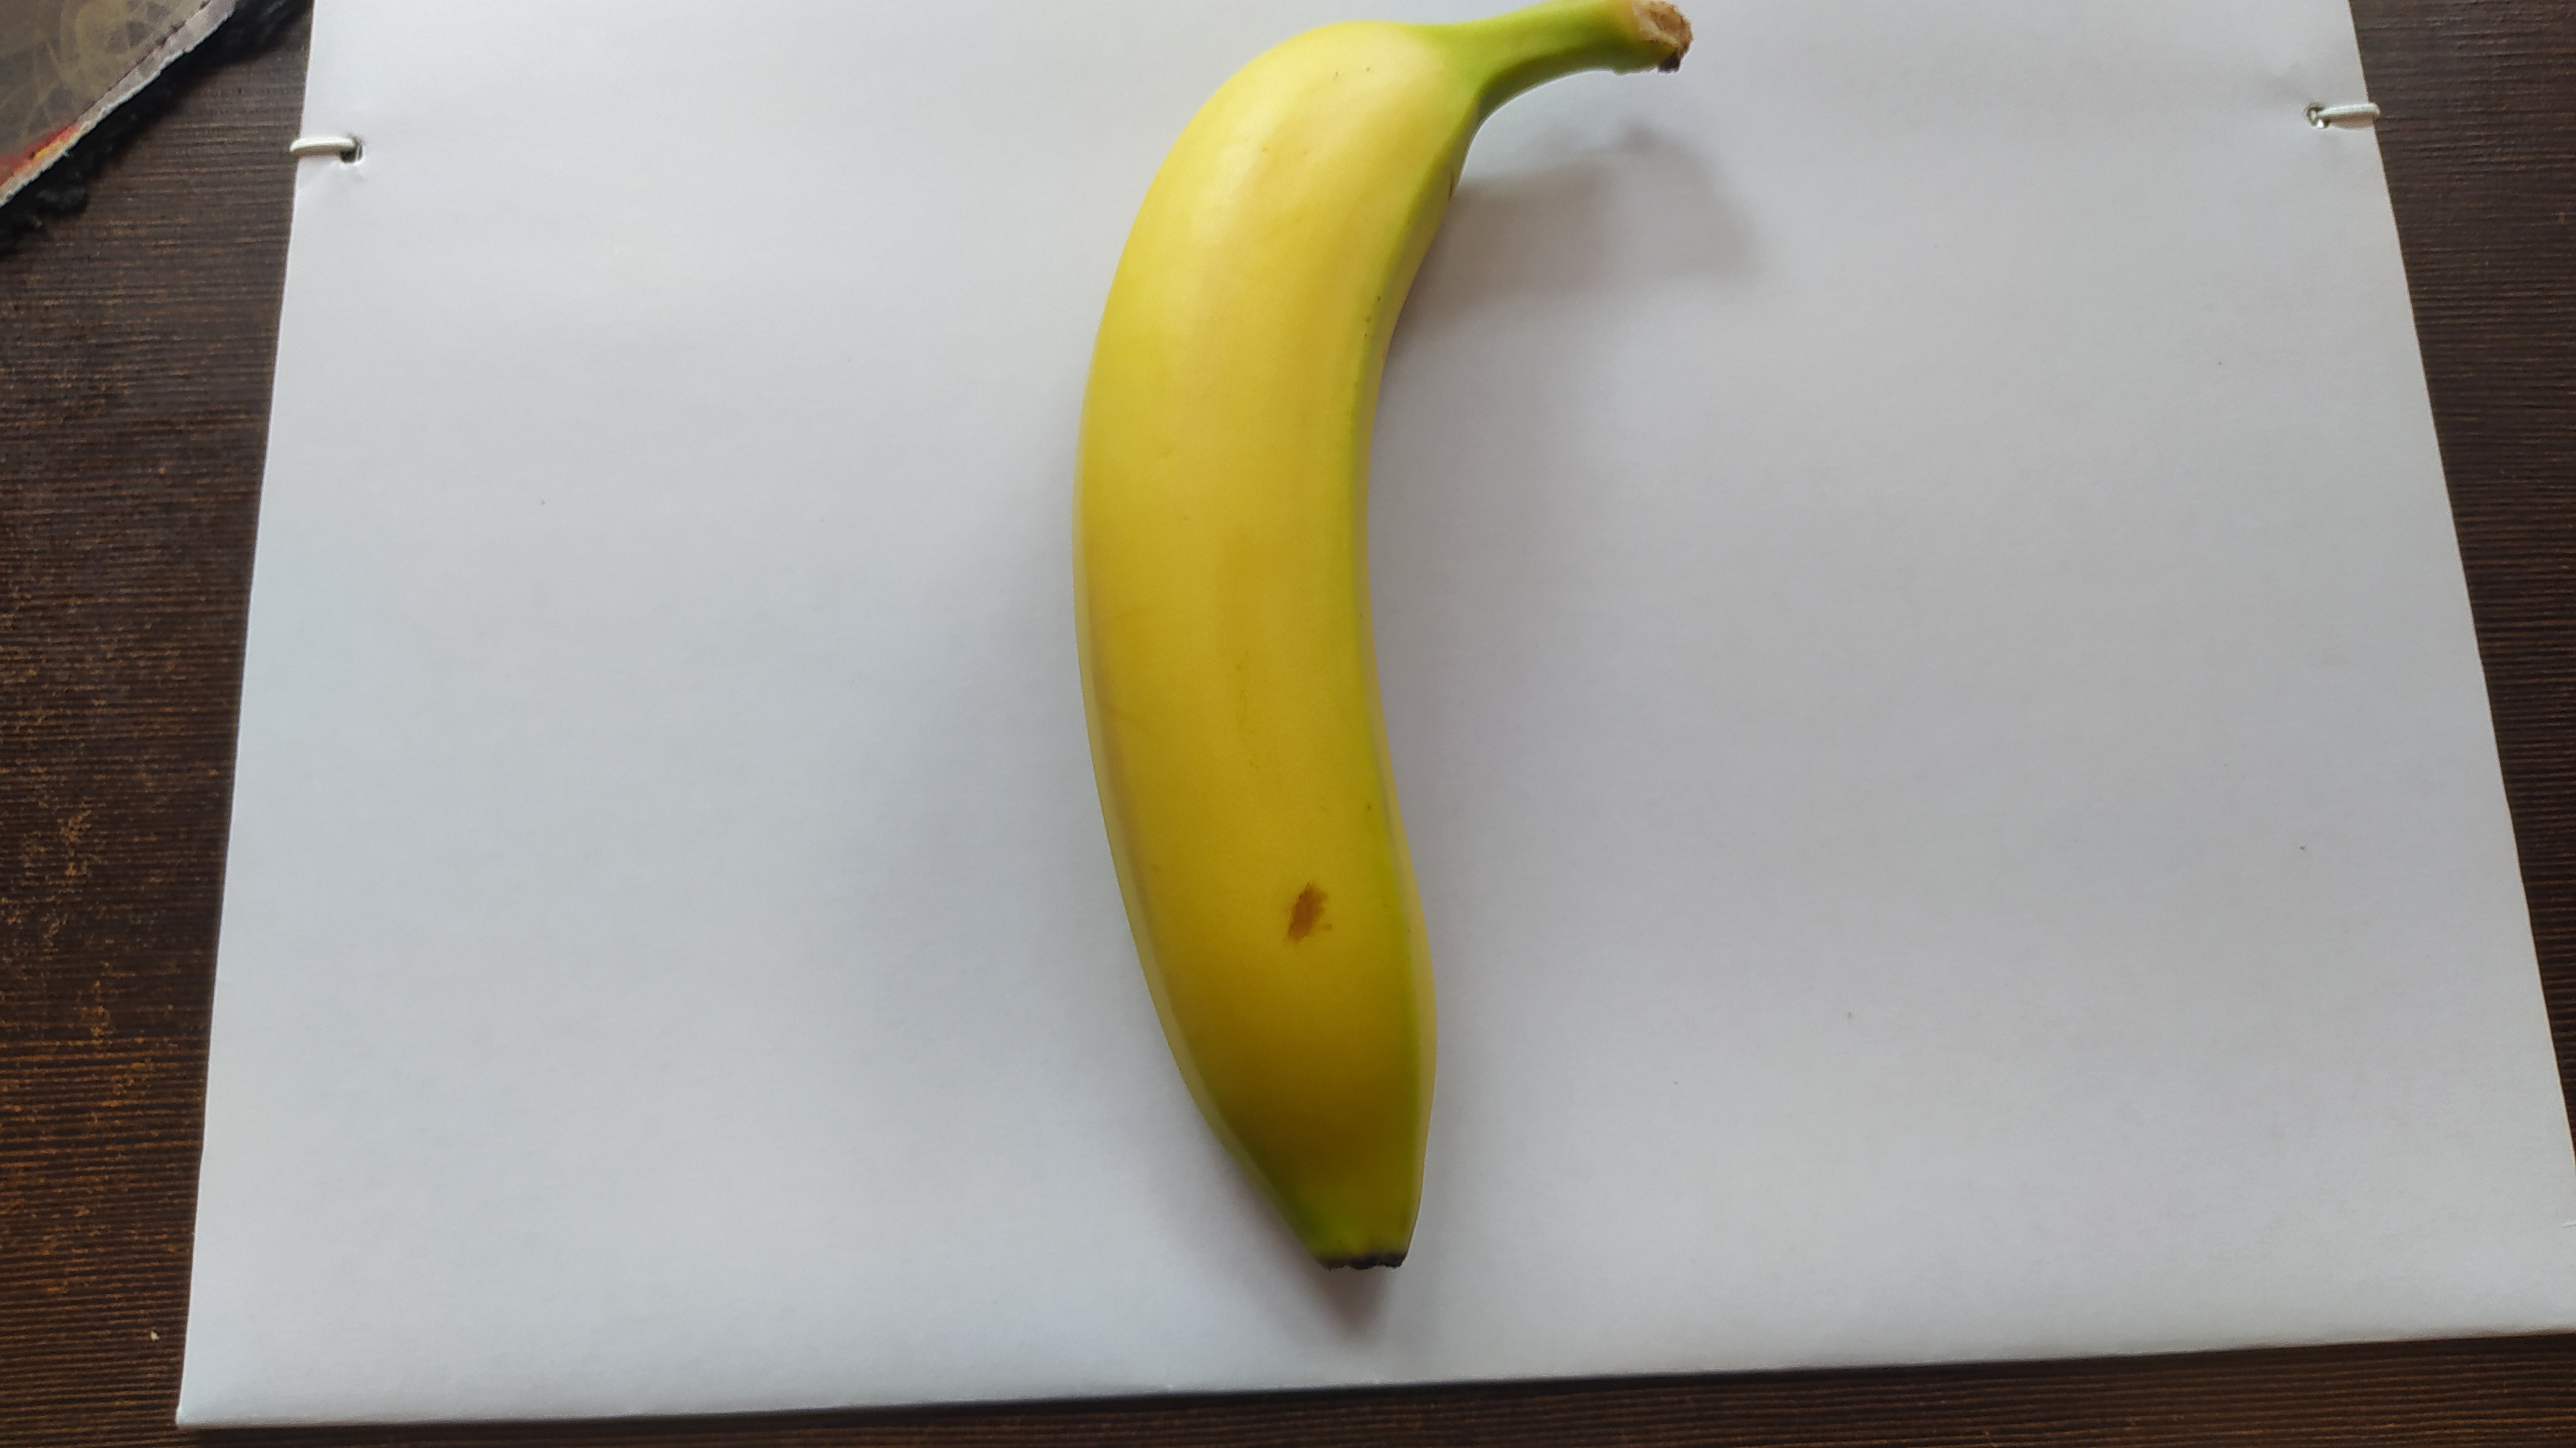banana: (1067, 2, 1693, 1271)
